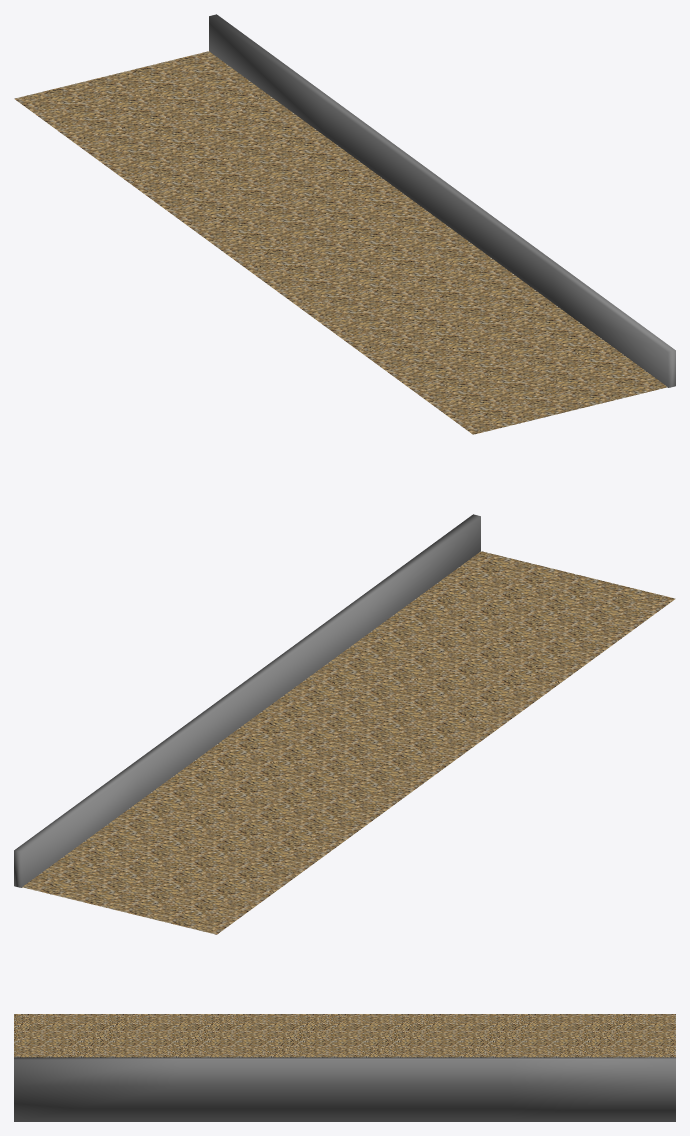
File: KONKURI_L04.glb
The picture shows the model from 3 angles, top to bottom: view 1: azimuth 30°, elevation 25°; view 2: azimuth 150°, elevation 25°; view 3: azimuth 270°, elevation 25°; orthographic projection. The views are drawn at different scales.
Visible parts, largest first — view 1: Model; view 2: Model; view 3: Model.
Part boxes in pixels (left/top/right/bottom): Model: left=14, top=14, right=675, bottom=434; Model: left=14, top=514, right=675, bottom=934; Model: left=14, top=1014, right=675, bottom=1121.
Bounding box in the file's own units: 25.5 × 10.3 × 100.
2 materials, 2 textured.
